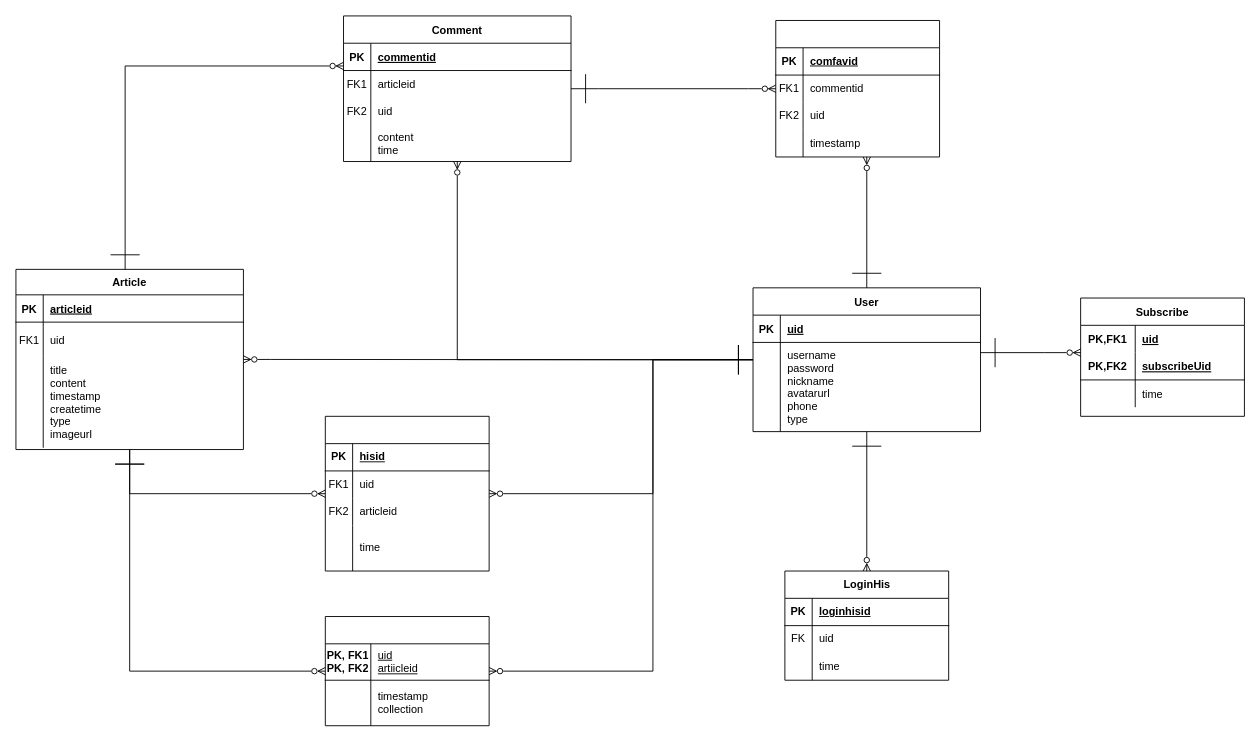
Image size: 1260x742. Some labels were removed from this diagram. The box of each missing label's shape, as (x1, y1, x2, y2) in pixels:
CommentFavorite: (775, 20, 940, 157)
Favorite: (324, 616, 489, 726)
HistoryArticle: (324, 415, 489, 571)
